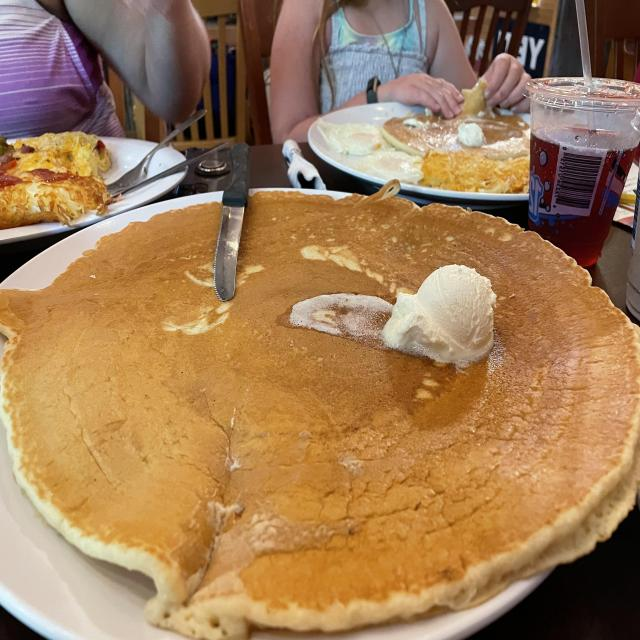Omelette: (0, 136, 115, 230), (406, 154, 538, 187)
Pancakes: (1, 186, 636, 640), (377, 85, 532, 158)
